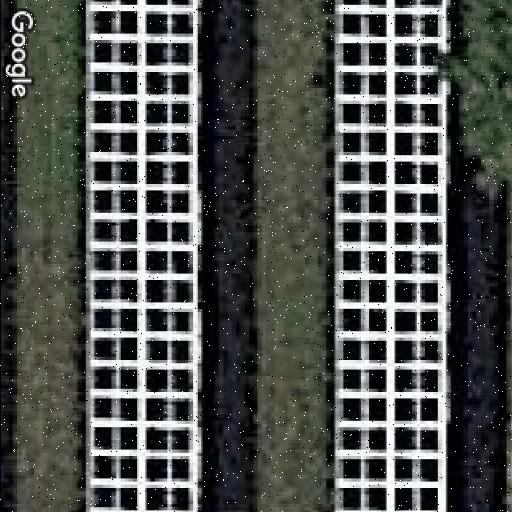solar-panel: (82, 0, 204, 512), (330, 0, 452, 512)
